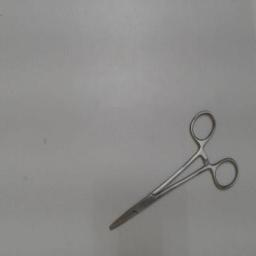Mayo Needle Holder: (104, 102, 244, 238)
